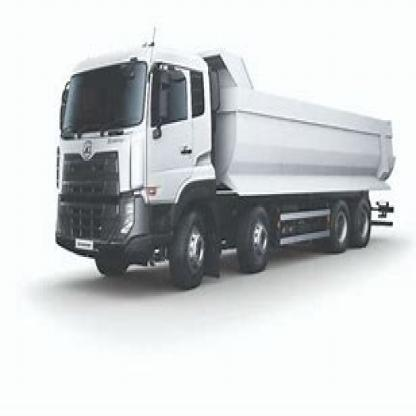dump_truck: (47, 41, 396, 294)
